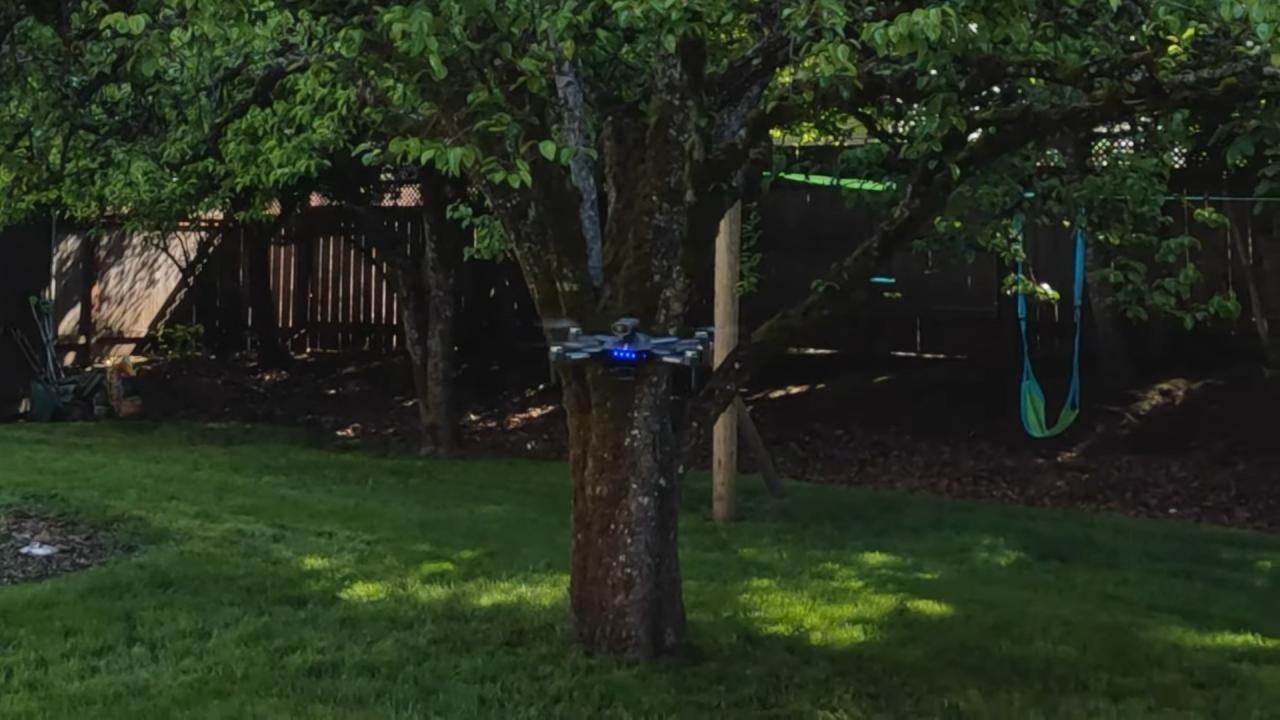Drone: (510, 307, 746, 385)
